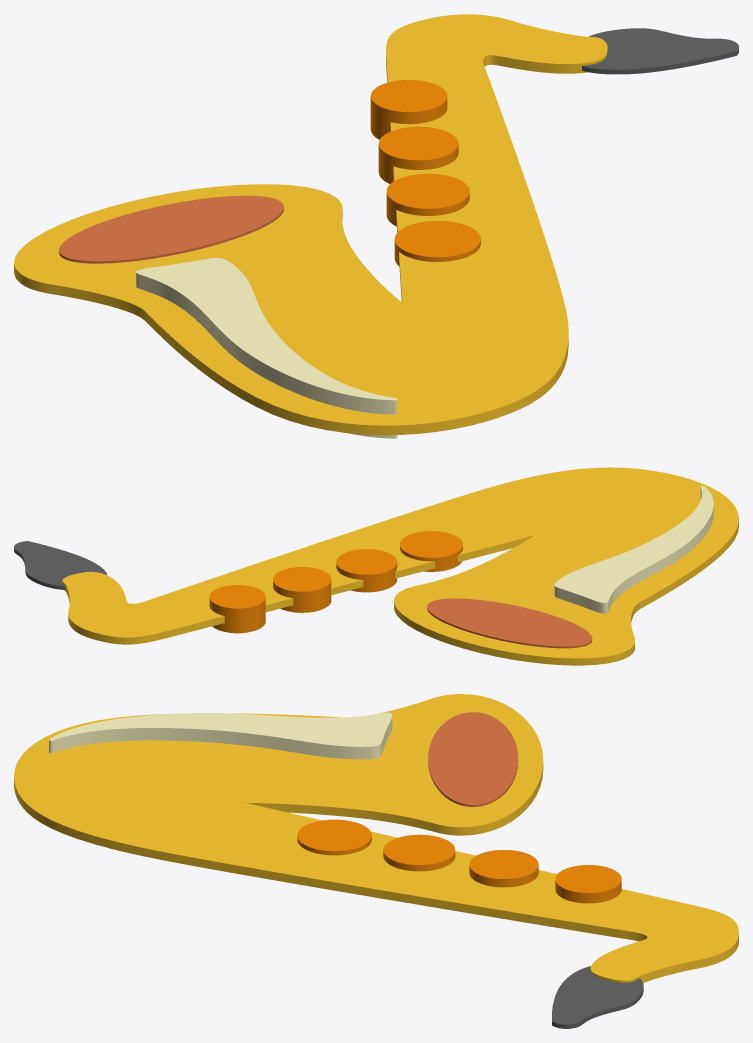
The model's file is emoji_u1f3b7.glb.
3 views of the same model, one above another, from view 1: azimuth 30°, elevation 25°; view 2: azimuth 150°, elevation 25°; view 3: azimuth 270°, elevation 25° (orthographic). The views are drawn at different scales.
Parts seen in each view (by area): view 1: emoji_u1f3b7; view 2: emoji_u1f3b7; view 3: emoji_u1f3b7.
Boxes of the visible parts, x1,y1,x2,y2 form: emoji_u1f3b7: (14, 14, 738, 438); emoji_u1f3b7: (14, 467, 738, 665); emoji_u1f3b7: (14, 694, 738, 1028).
Bounding box in the file's own units: 0.0339 × 0.0016 × 0.0316.
